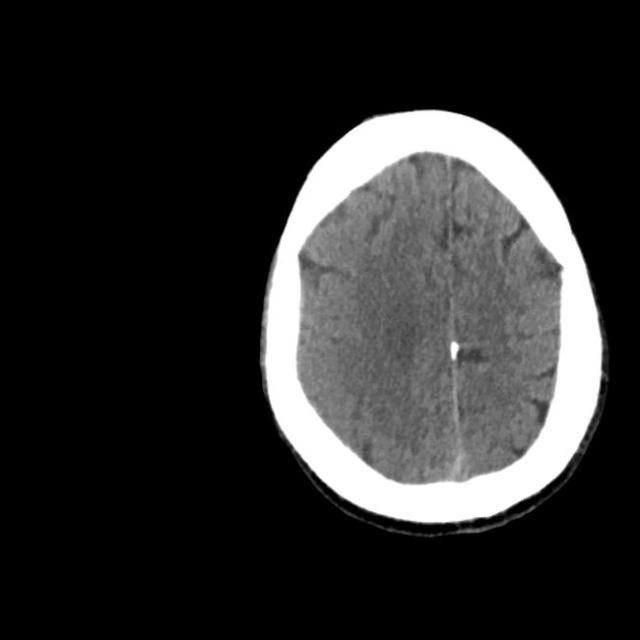lesion: (254, 104, 611, 538)
